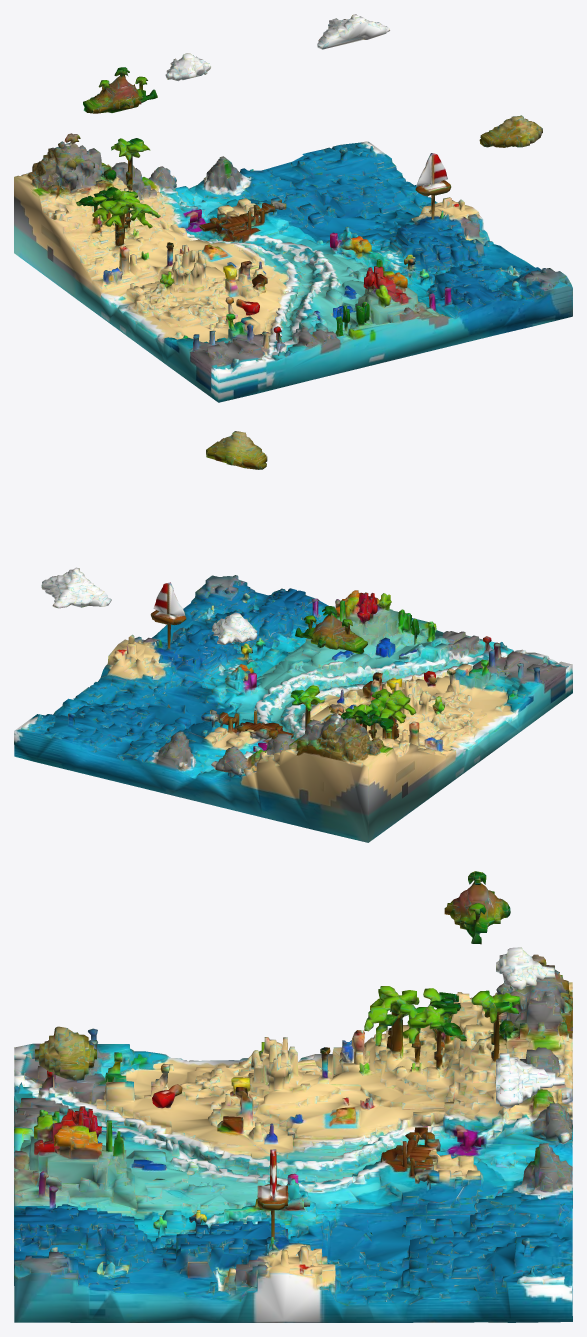
File: world_model.glb
The picture shows the model from 3 angles, top to bottom: view 1: azimuth 30°, elevation 25°; view 2: azimuth 150°, elevation 25°; view 3: azimuth 270°, elevation 25°; orthographic projection. The views are drawn at different scales.
Visible parts, largest first — view 1: Mesh_0; view 2: Mesh_0; view 3: Mesh_0.
Boxes of the visible parts, bbox=[...] form: Mesh_0: bbox=[14, 14, 572, 402]; Mesh_0: bbox=[14, 431, 572, 842]; Mesh_0: bbox=[14, 871, 572, 1322].
Bounding box in the file's own units: 1.91 × 1.01 × 1.91.
Materials: 1 (1 with a texture image).
